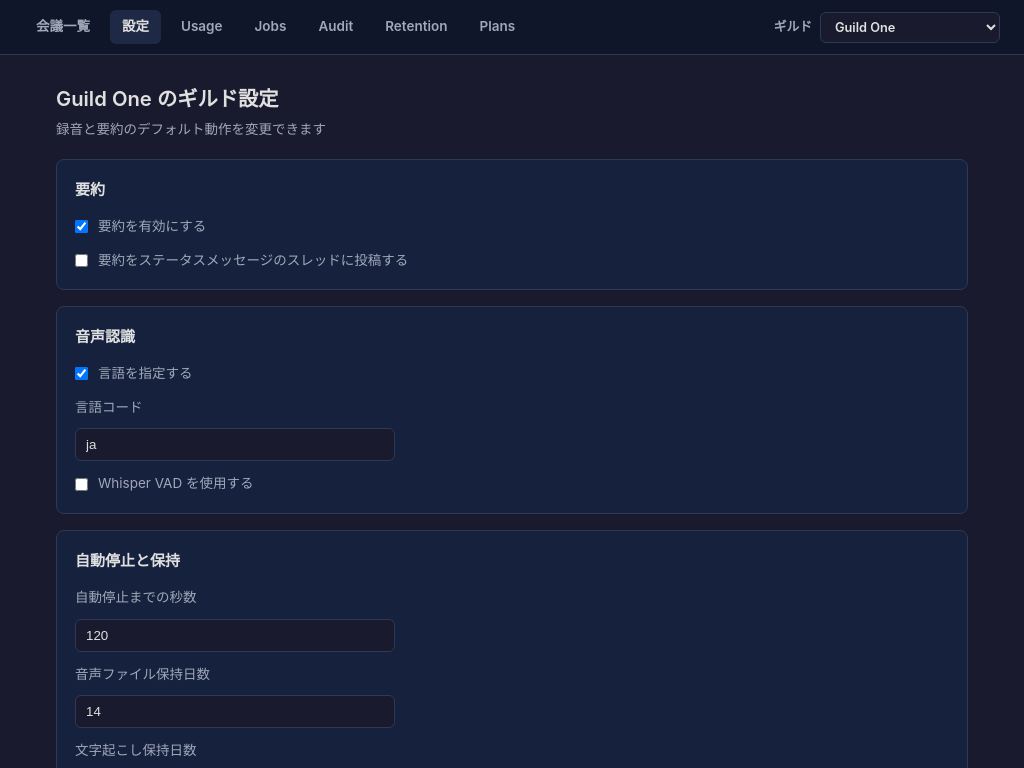
Test: App access controls › ignores stale customization loads after switching target guilds
Select "Guild Two" in the dropdown labelled "ギルド" at (910, 27), box [820,12,1000,42]
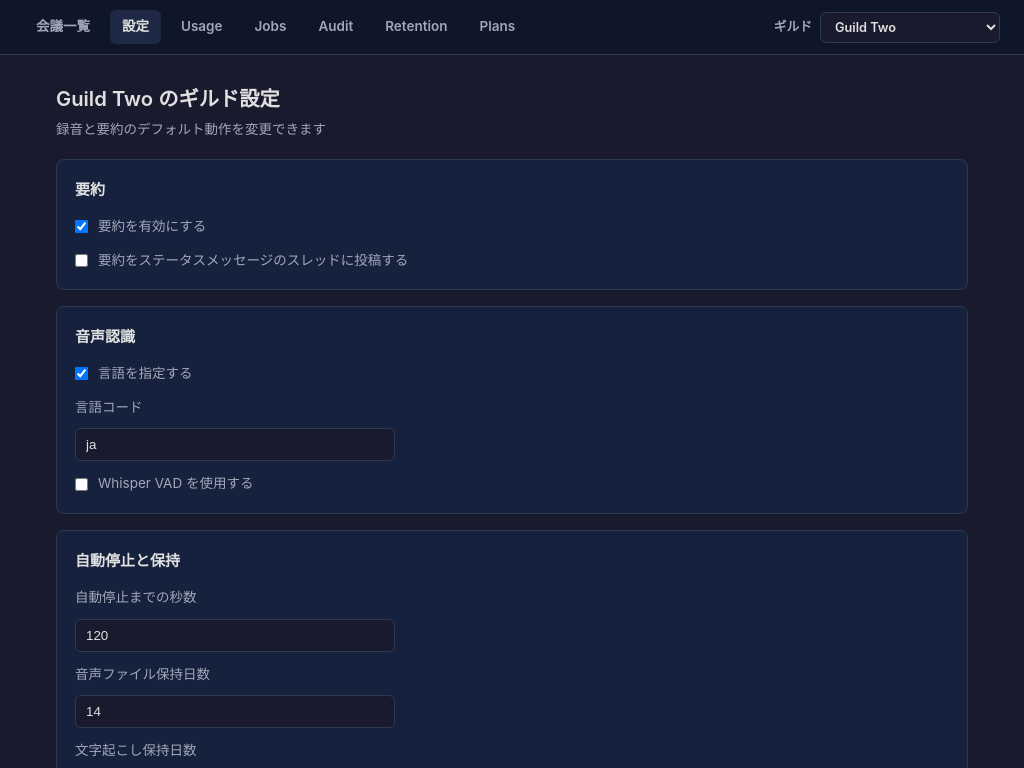
Expected: the heading "Guild Two のギルド設定" is shown, [56,86,280,111]
